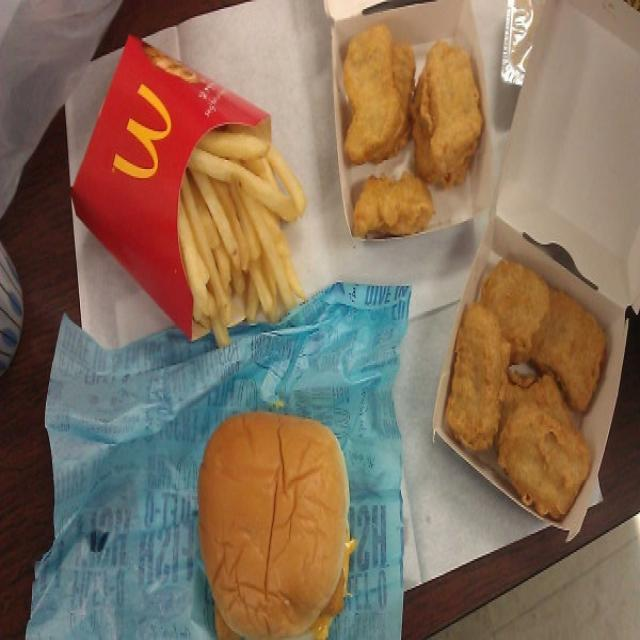French Fries: (165, 98, 302, 340)
Hamburger: (195, 400, 360, 635)
